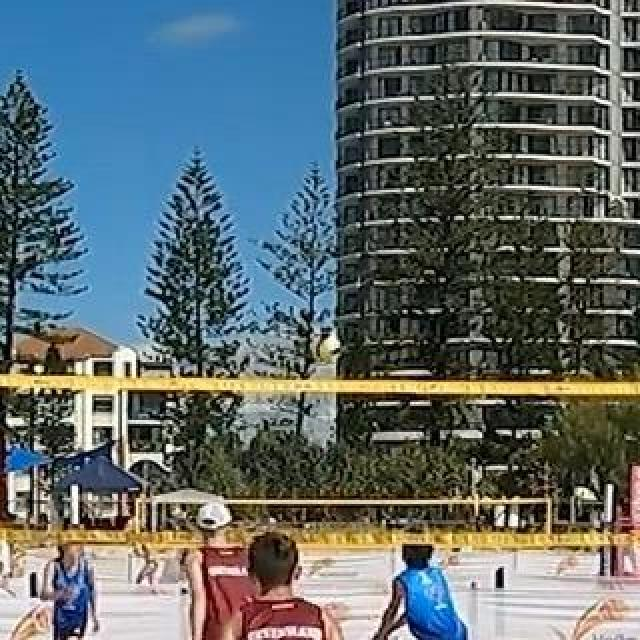volleyball: (311, 334, 343, 362)
